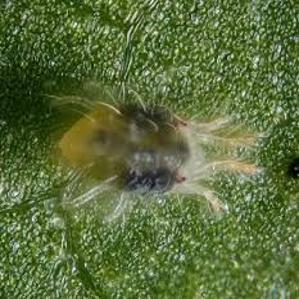spider mite: (43, 61, 256, 239)
